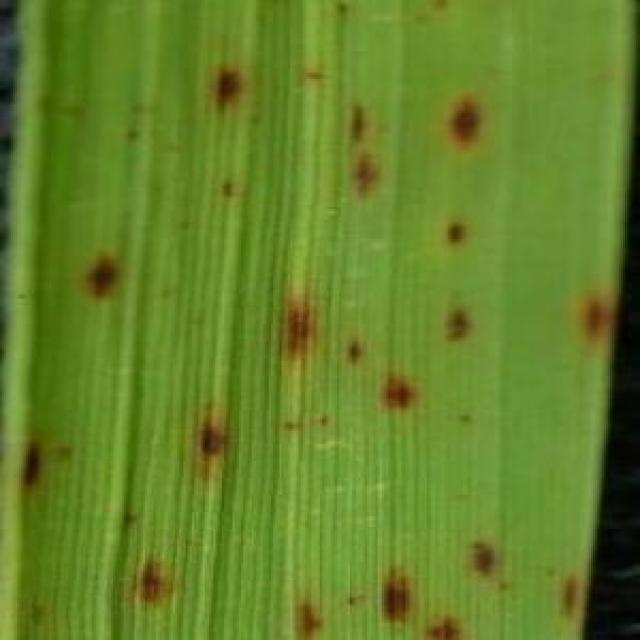brownspots: (70, 244, 150, 314), (271, 282, 335, 358), (358, 559, 431, 621), (186, 404, 250, 469), (17, 438, 77, 502), (371, 371, 442, 420), (203, 54, 254, 115), (572, 292, 616, 360), (122, 556, 184, 602), (334, 154, 392, 202), (435, 301, 493, 348), (326, 96, 384, 141), (446, 90, 482, 150), (552, 554, 586, 616), (452, 531, 506, 570), (284, 591, 328, 636), (435, 210, 482, 250), (442, 606, 474, 638)
